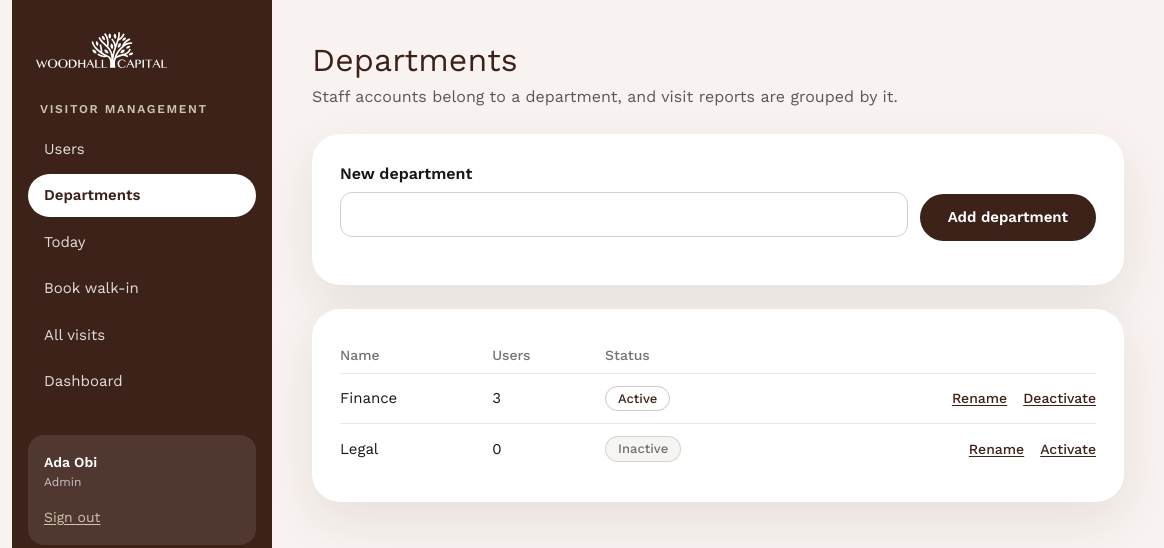
Scenario: renames a department
The image size is (1164, 548).
Click the button "Rename" in the row of "Finance" at {"x": 980, "y": 398}, box x1=952 y1=388 x2=1007 y2=408
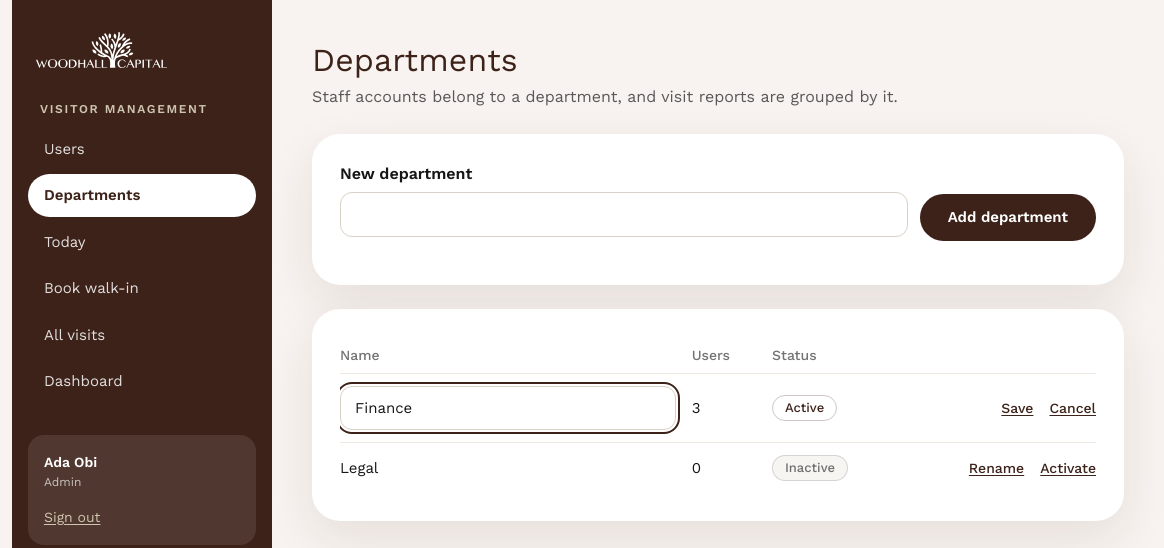
Replace the text in the field named "Department name" with "Finance & Accounts" at {"x": 508, "y": 408}, box x1=340 y1=386 x2=676 y2=430
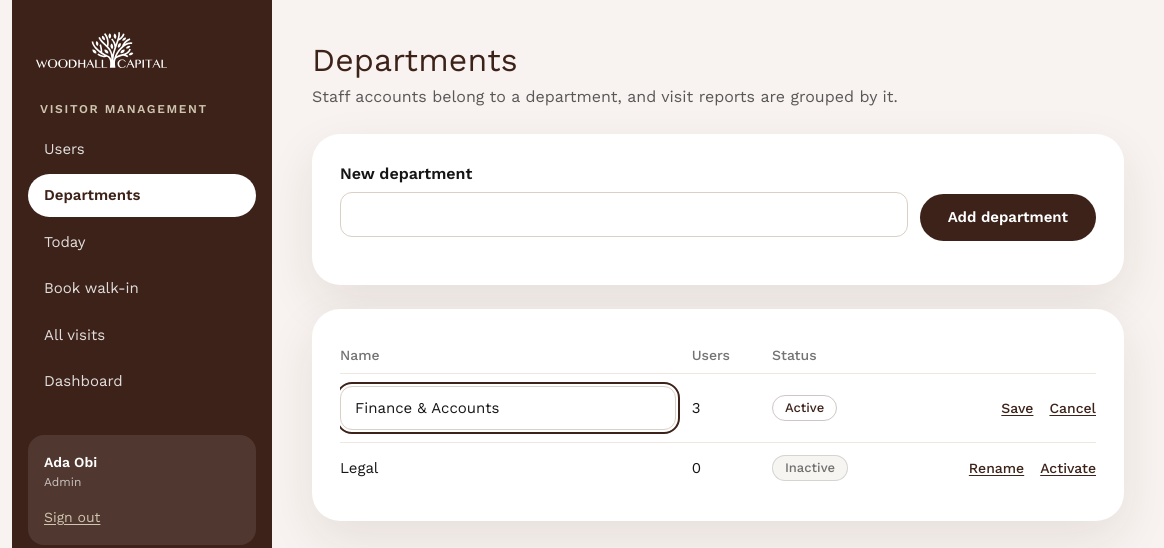
Click the button "Save" at {"x": 1017, "y": 408}, box x1=1001 y1=398 x2=1033 y2=418
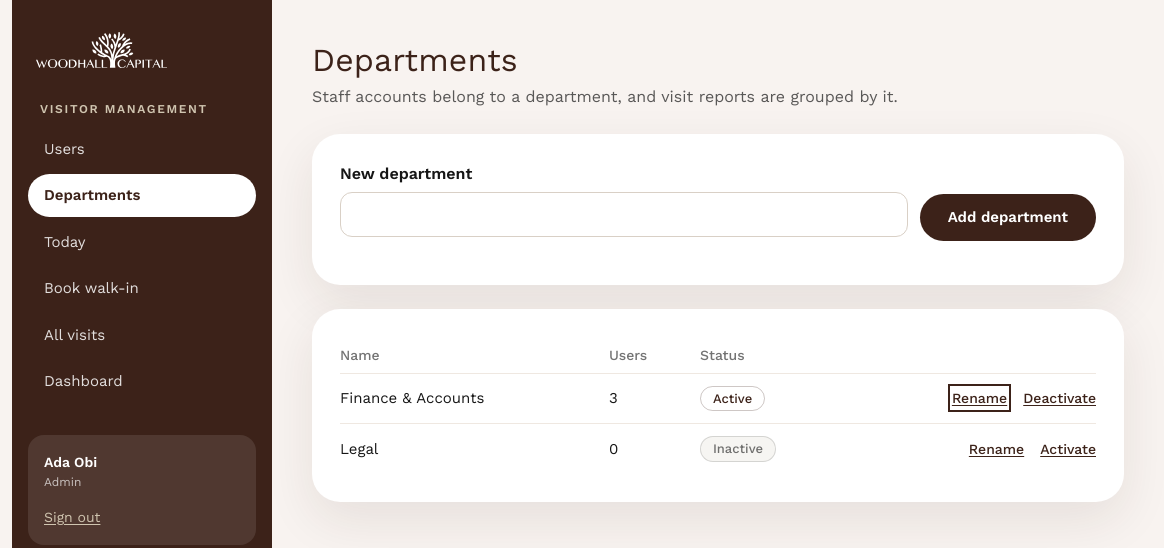
Expected: the row "Finance & Accounts 3 Active Rename Deactivate" is shown, x1=340 y1=373 x2=1096 y2=424
